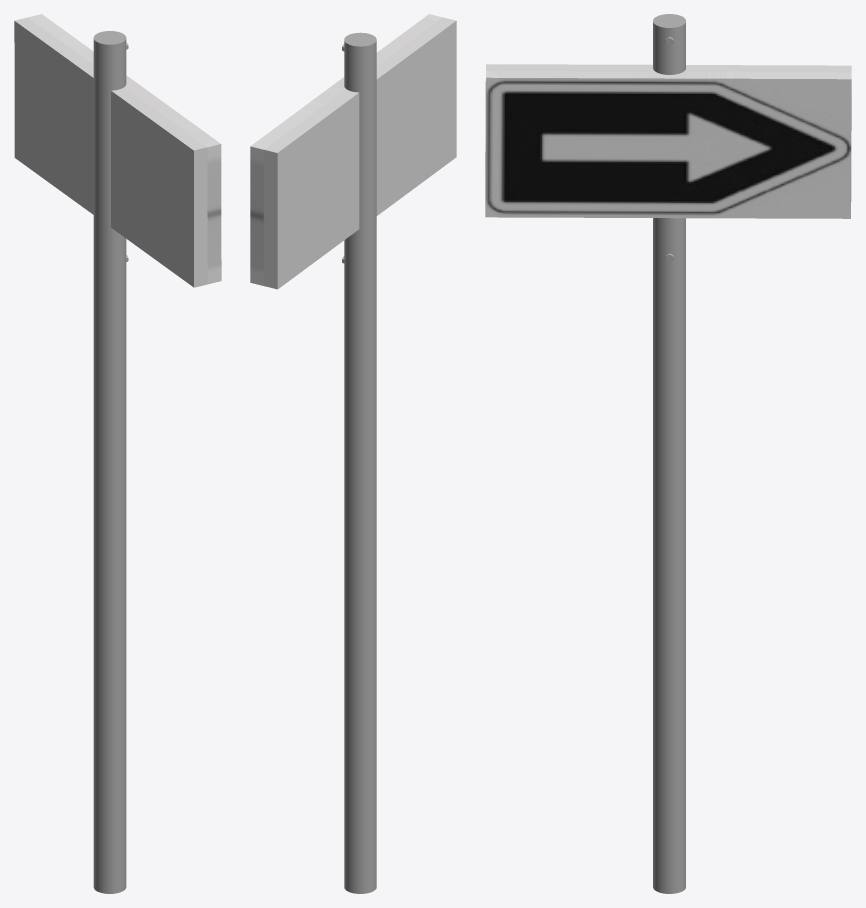
The model's file is TurnBlackErrowRight(1).fbx.
3 renders of one model, left to right at view 1: azimuth 30°, elevation 25°; view 2: azimuth 150°, elevation 25°; view 3: azimuth 270°, elevation 25°, orthographic. The views are drawn at different scales.
Visible parts, largest first — view 1: Cylinder, Plane.002, Plane.001; view 2: Plane.002, Cylinder, Plane.001; view 3: Plane.001, Cylinder, Plane.002.
Part boxes in pixels (box(x1,y1,x2,y2)): Cylinder: box(93, 31, 126, 893); Plane.002: box(14, 17, 207, 287); Plane.001: box(28, 14, 221, 284); Plane.002: box(263, 17, 456, 289); Cylinder: box(344, 32, 376, 893); Plane.001: box(250, 14, 442, 285); Plane.001: box(485, 71, 851, 218); Cylinder: box(653, 14, 685, 893); Plane.002: box(485, 64, 851, 158).
Size of the model in its own units: 25.2 by 580 by 222.
Materials: 3 (1 with a texture image).
